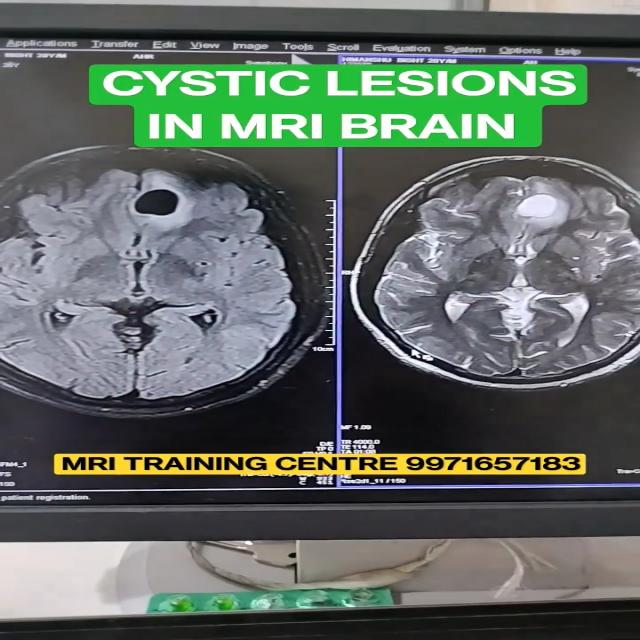tumor: (128, 179, 206, 243), (496, 192, 582, 244), (128, 180, 129, 196)
